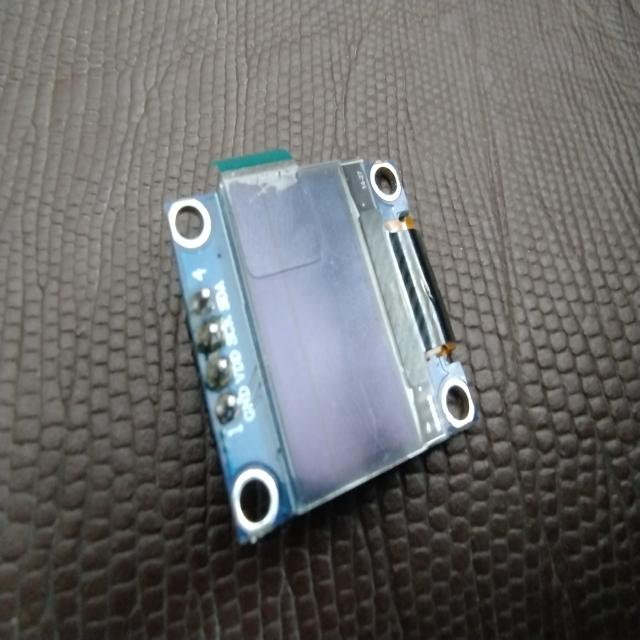oled: (156, 129, 489, 543)
